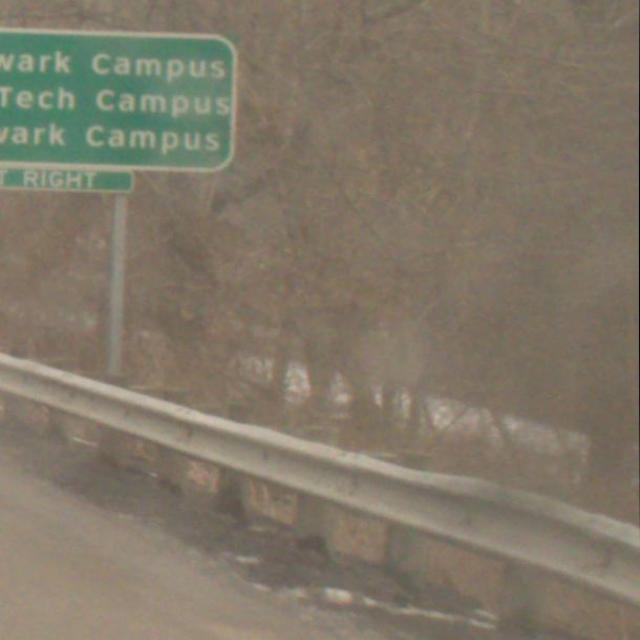Guard rail: (0, 349, 640, 640)
